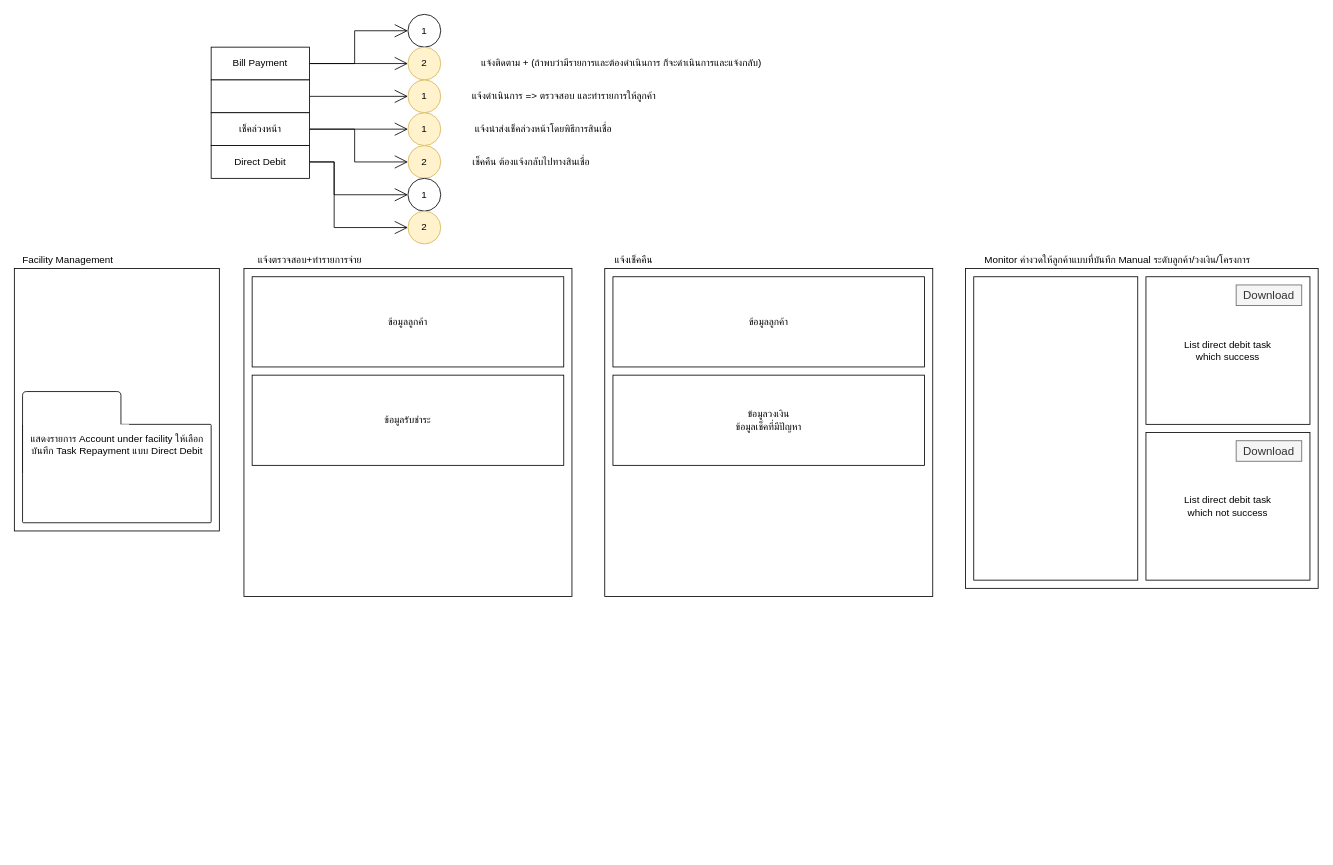
The diagram is 1333 pixels wide and 865 high, and some of its shapes have lost their labels. The centre of each missing label's shape, as x and y in pixels:
"Fund Transfer (GL)" belongs at [260,96].
"SIBS FMS L400 Lsit of direct debit must perform by Loan Oper team" belongs at [1055,428].
